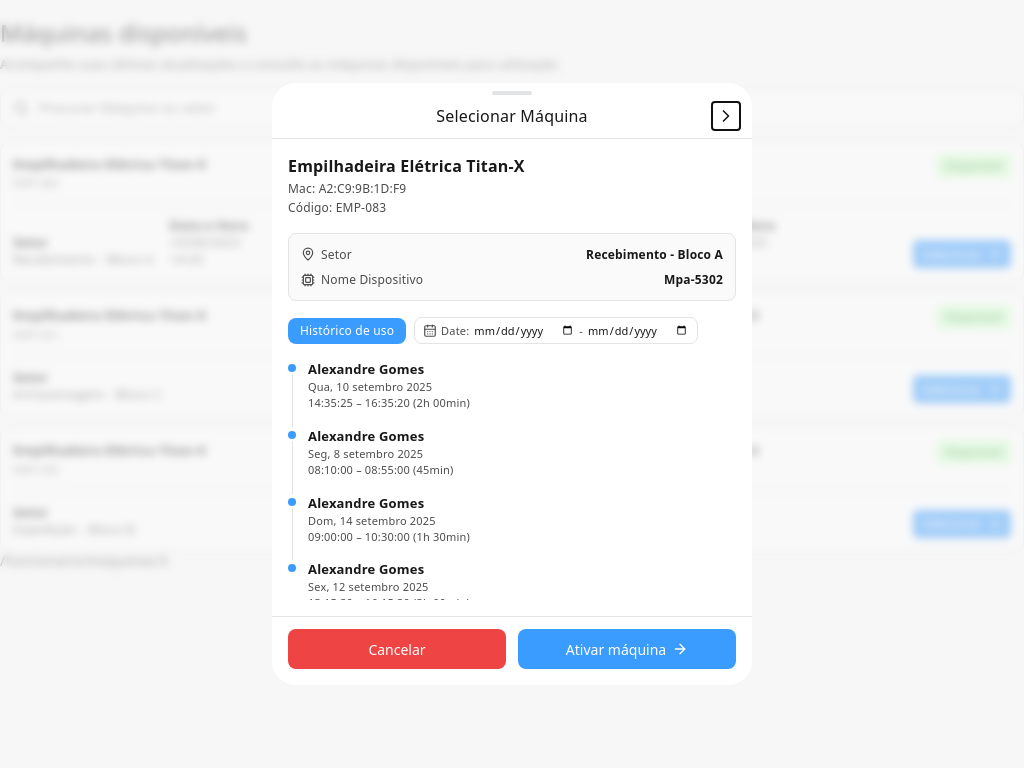
Test case: EmployeeMachinesPage › closes the sheet on Cancelar, keeping the list
Click the button "Cancelar". click: (397, 649)
box: [288,629,506,669]
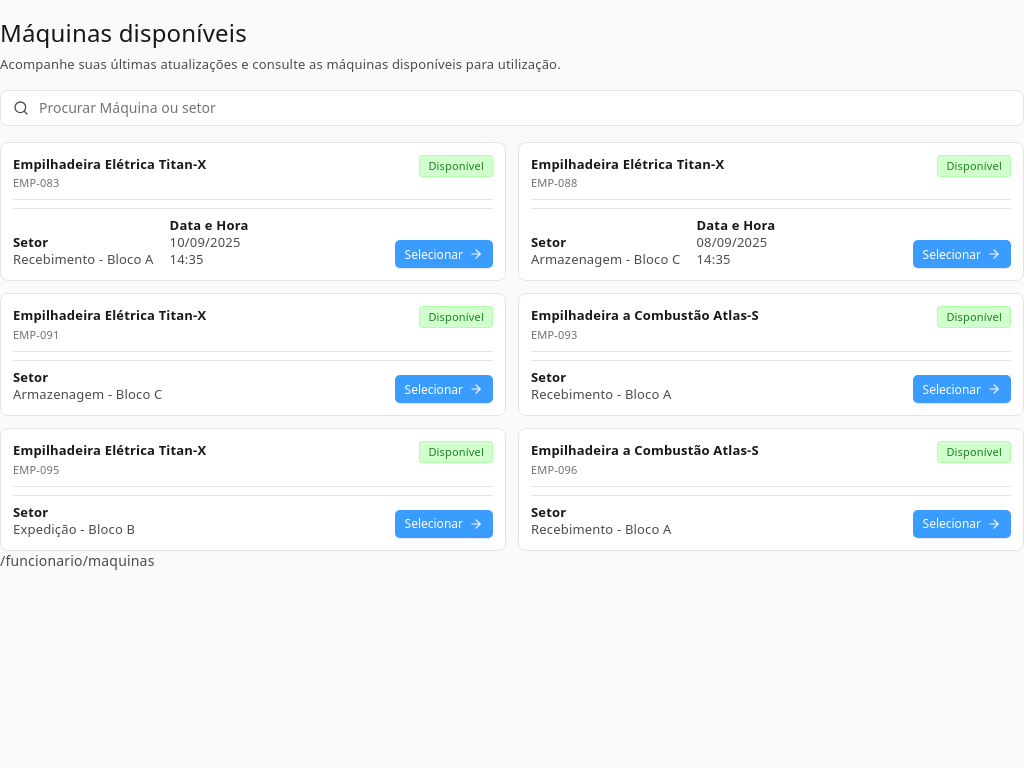
Now the dialog is gone
Now the text with test id "where" reads "/funcionario/maquinas", box [0,551,154,570]
